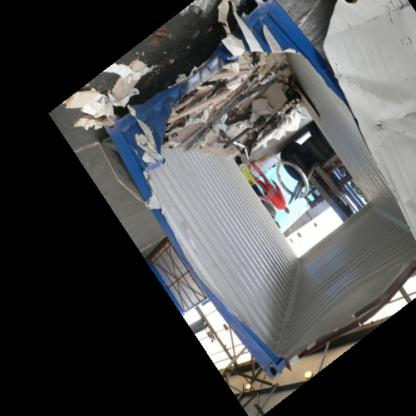Damage: (119, 14, 414, 364)
